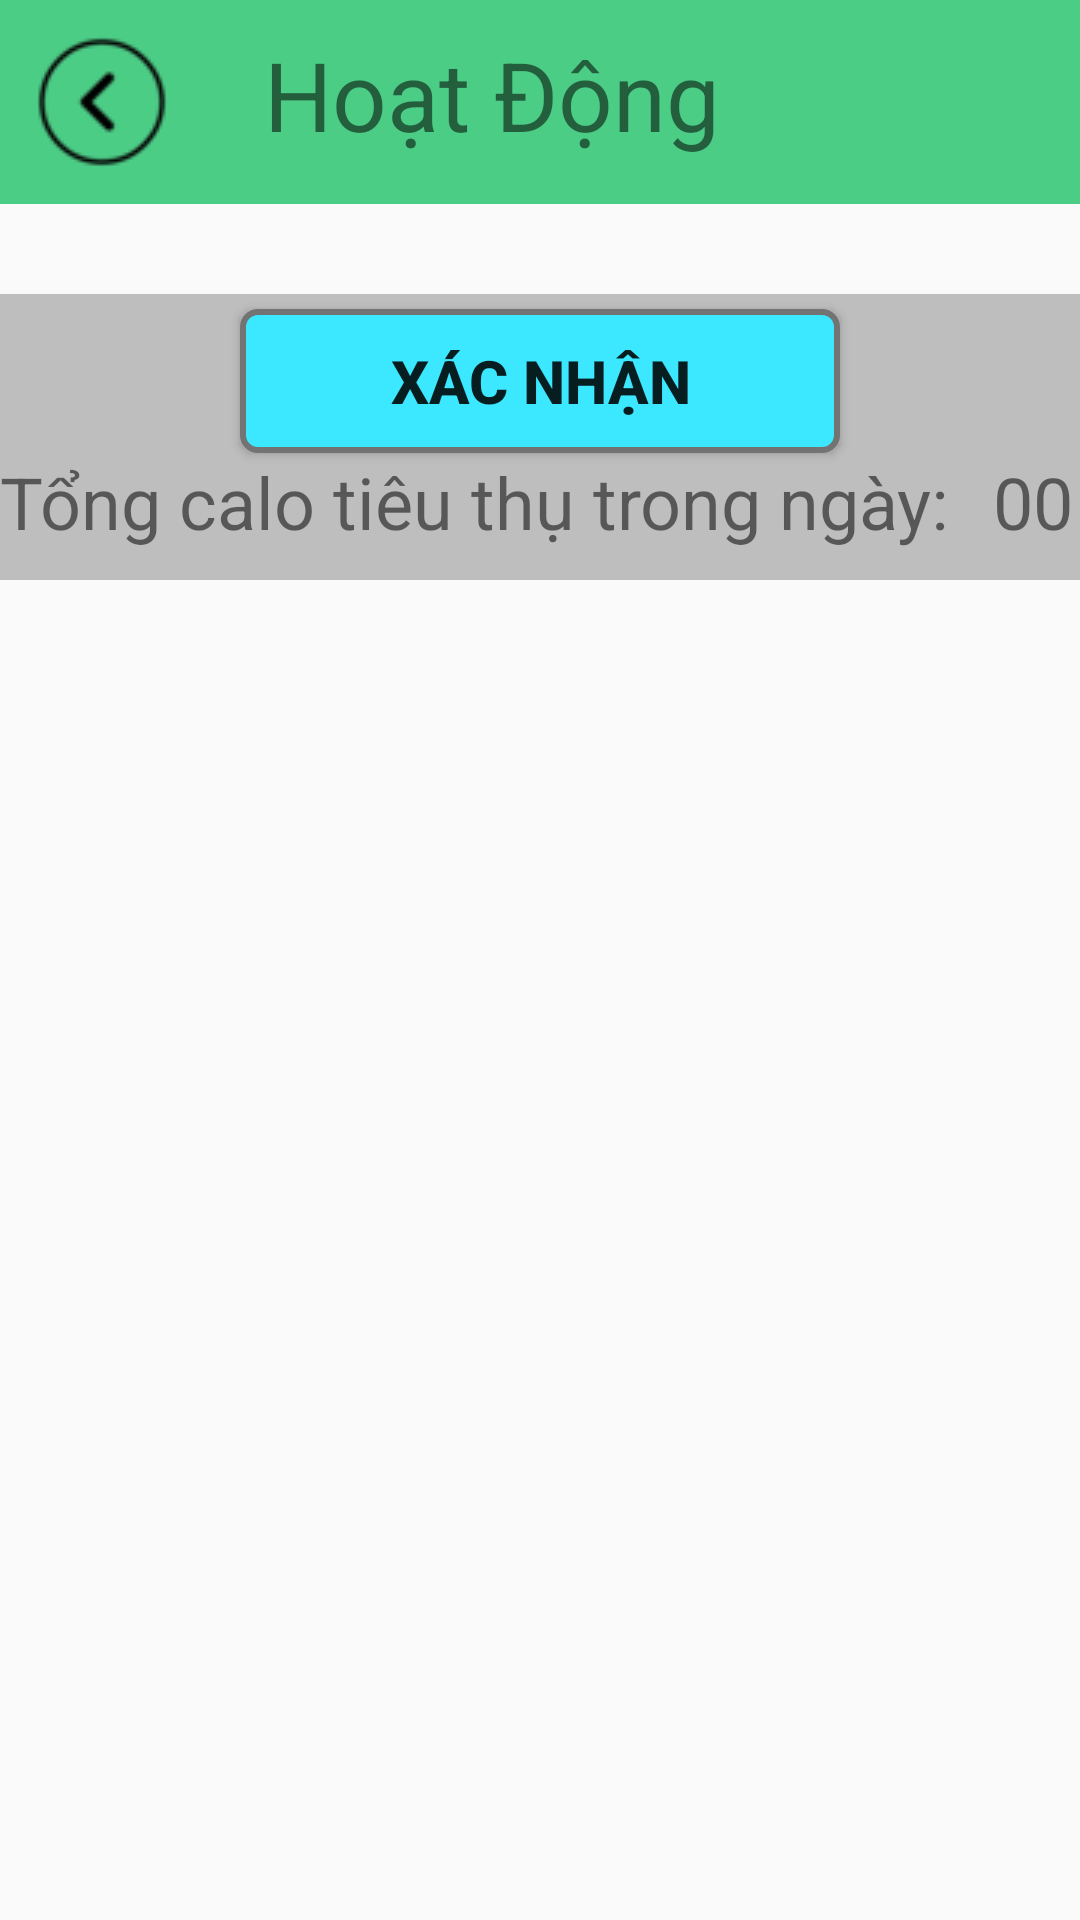

Screen size 1080px x 1920px. Icon name, then its center in pixels as (x=x, y=y):
back: (x=102, y=102)
